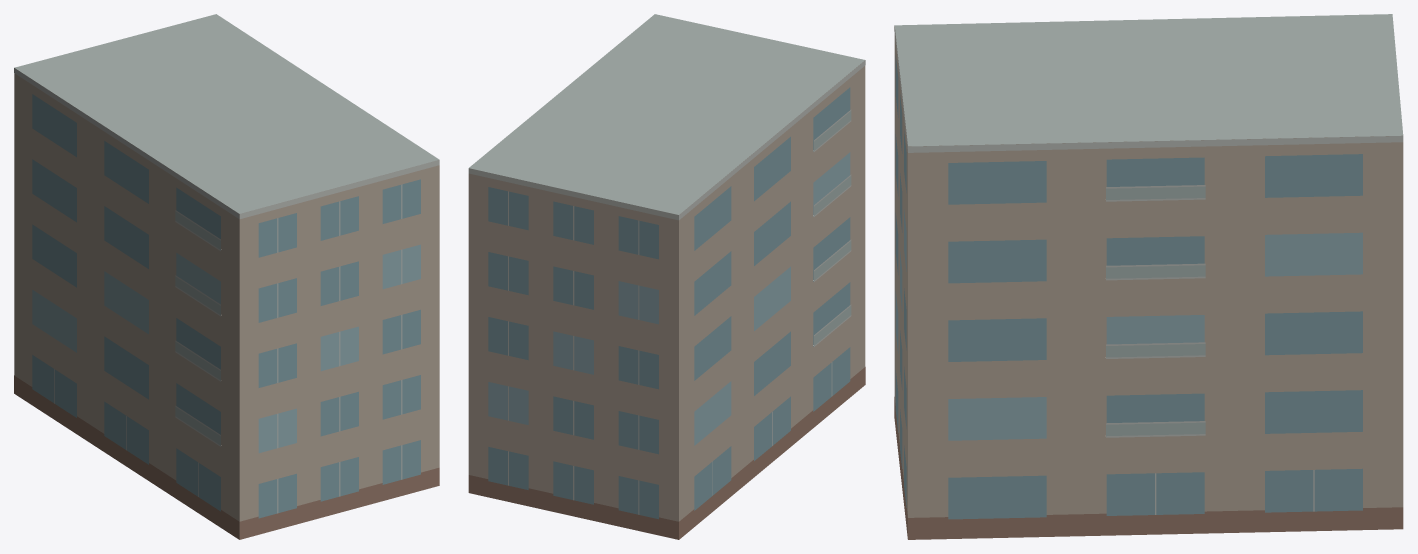
File: survey-upis-32773721.glb
The picture shows the model from 3 angles, left to right: view 1: azimuth 30°, elevation 25°; view 2: azimuth 150°, elevation 25°; view 3: azimuth 270°, elevation 25°; orthographic projection. The views are drawn at different scales.
Visible parts, largest first — view 1: survey-upis-32773721.tmp; view 2: survey-upis-32773721.tmp; view 3: survey-upis-32773721.tmp.
Boxes of the visible parts, box(x1,y1,x2,y2) form: survey-upis-32773721.tmp: box(14, 14, 439, 539); survey-upis-32773721.tmp: box(468, 14, 865, 539); survey-upis-32773721.tmp: box(894, 14, 1403, 539).
Bounding box in the file's own units: 10.7 × 14.8 × 17.35.
